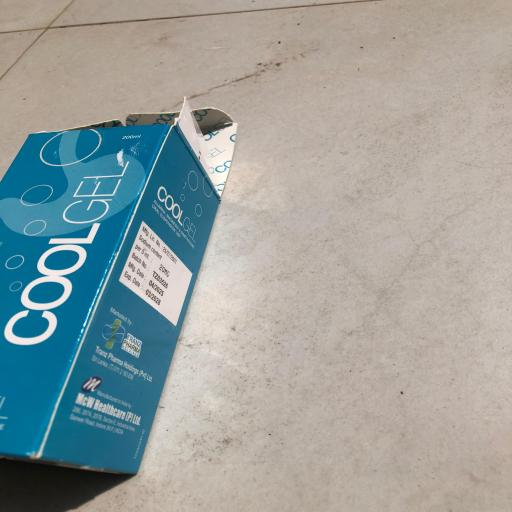waste: (0, 92, 252, 484)
